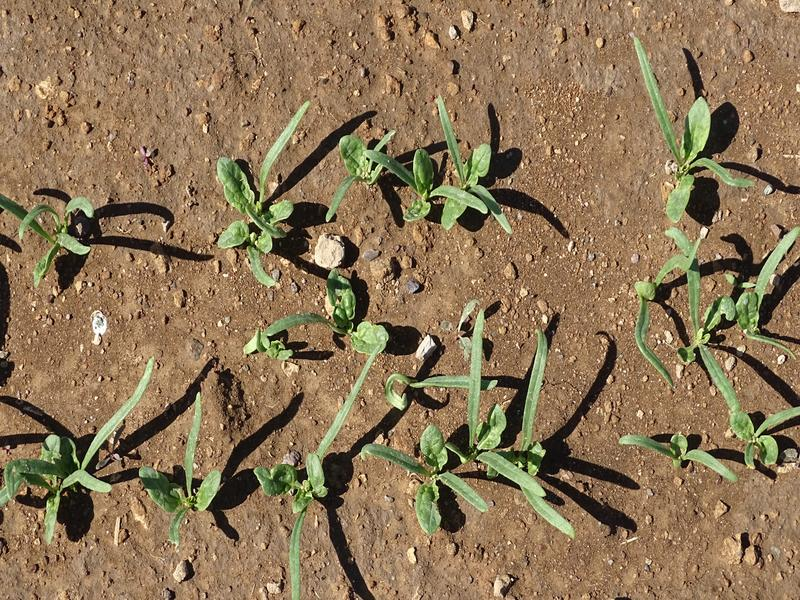Espinaca: (280, 324, 567, 600), (624, 220, 788, 401), (7, 354, 156, 537), (334, 99, 515, 234), (628, 34, 754, 212), (211, 100, 319, 251), (617, 401, 800, 478), (142, 389, 218, 543), (15, 192, 97, 285), (293, 279, 395, 349)
